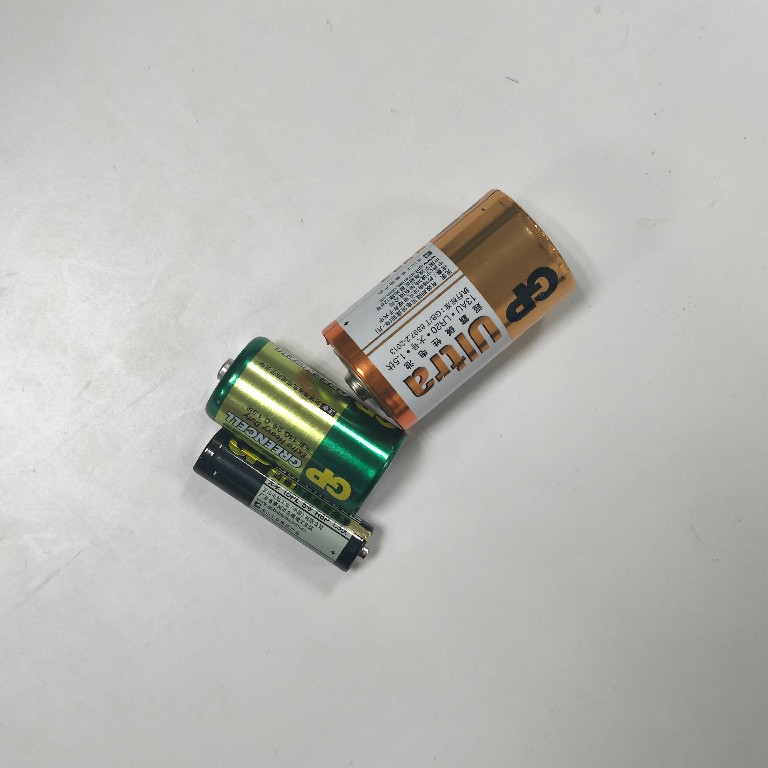charge: (320, 187, 578, 438), (202, 333, 410, 514), (190, 424, 379, 574)
